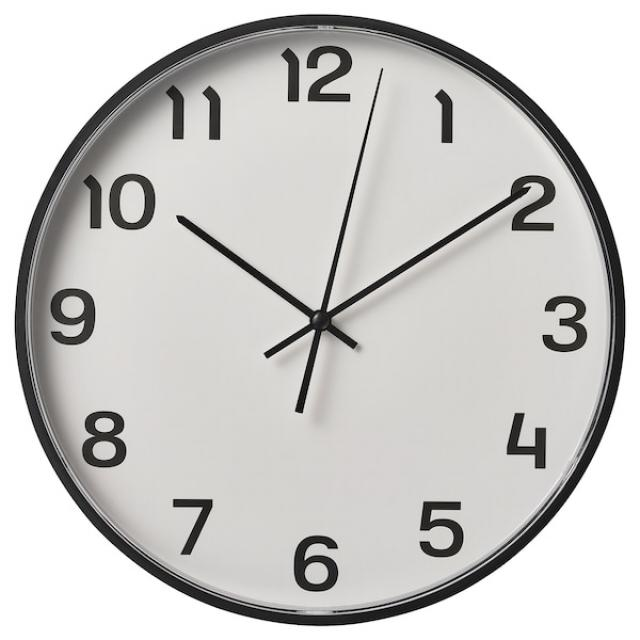clock: (41, 21, 604, 640)
